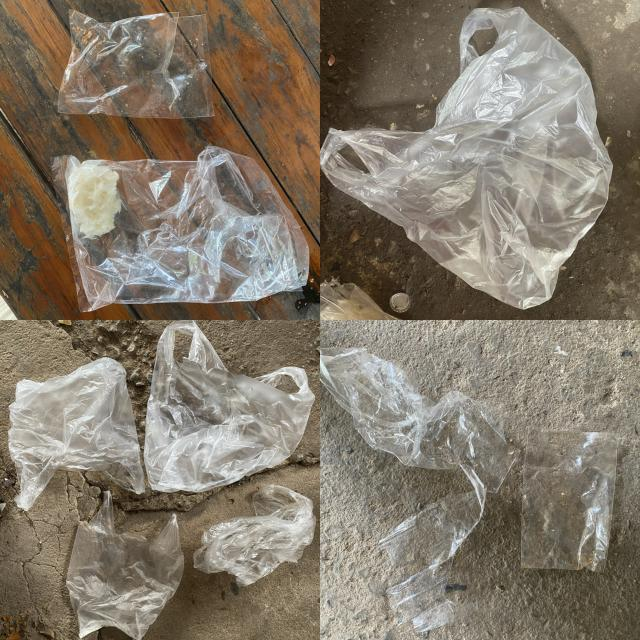Single-layer Plastic: (321, 8, 612, 309), (320, 348, 515, 631), (51, 146, 309, 311), (144, 321, 315, 492), (9, 358, 145, 511), (66, 491, 184, 640), (58, 10, 214, 119), (521, 426, 620, 572), (194, 485, 316, 586)
